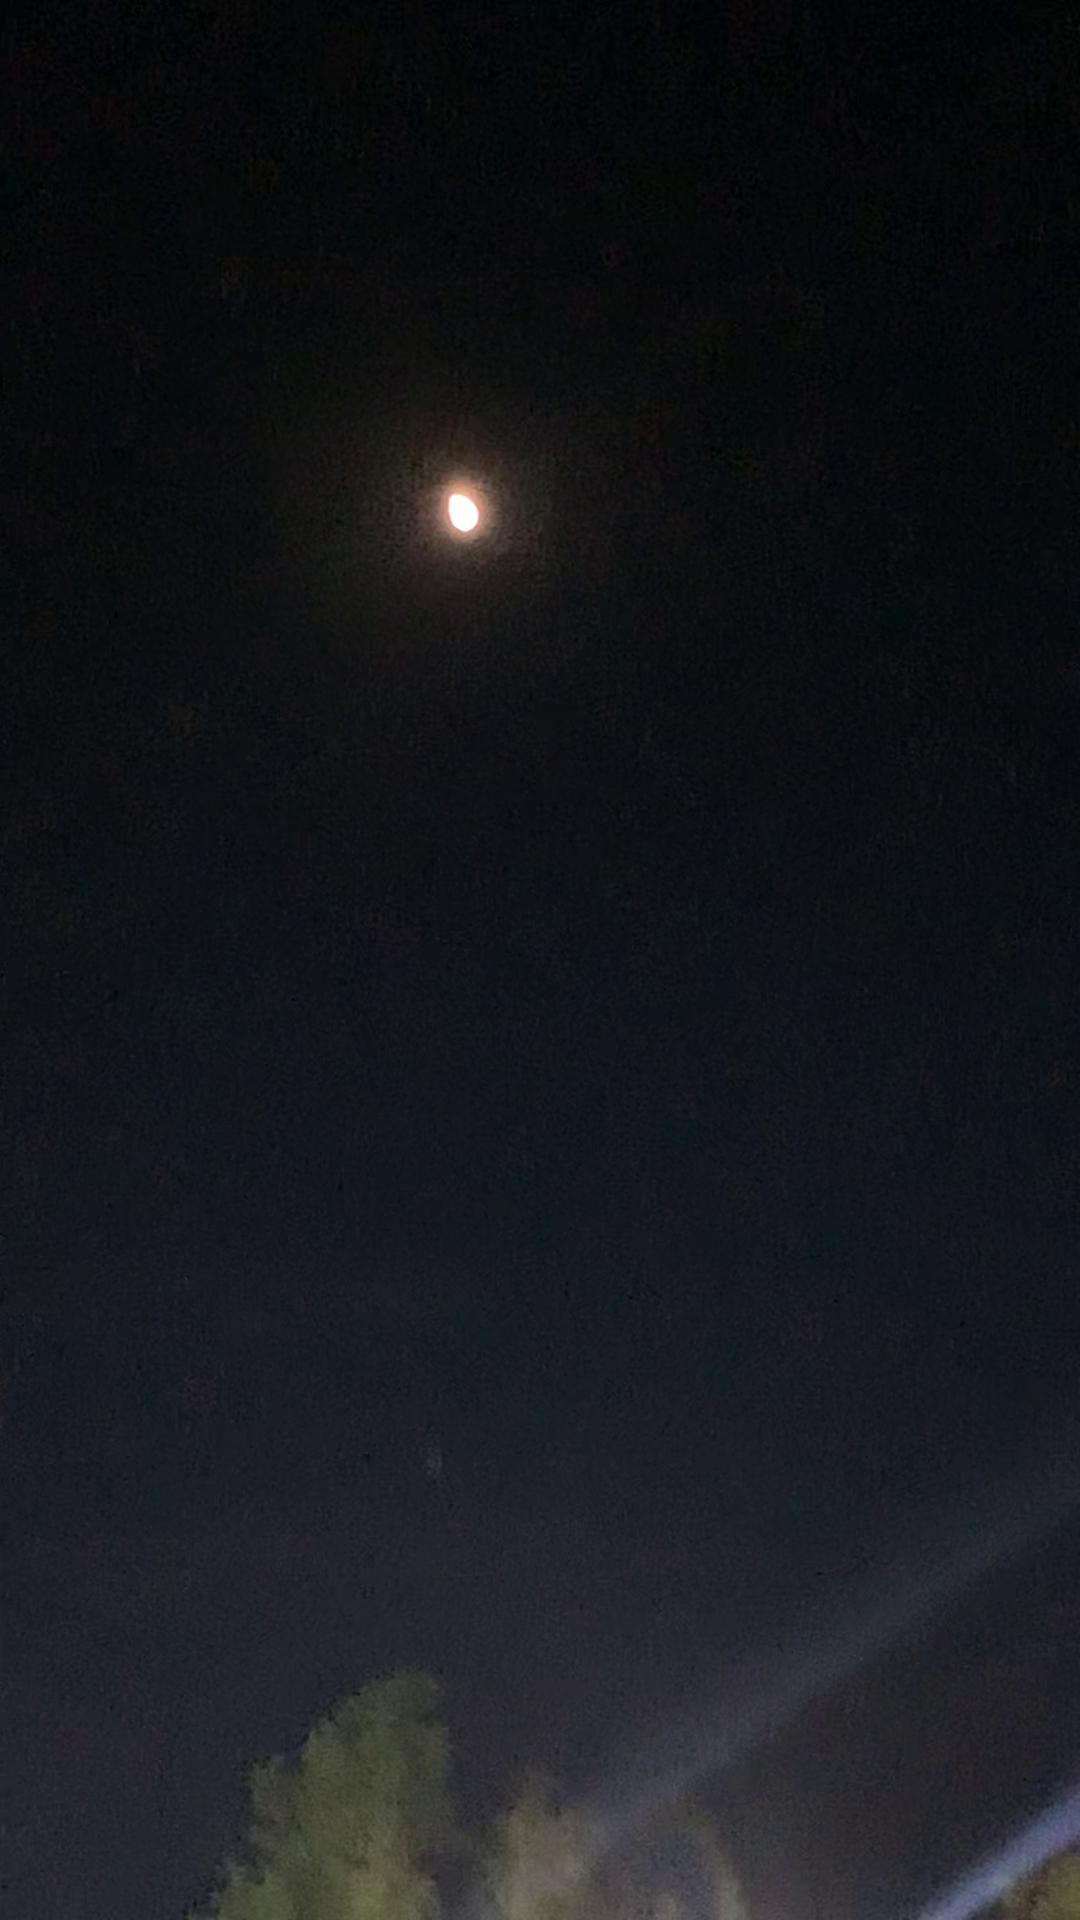moon: (423, 473, 500, 553)
